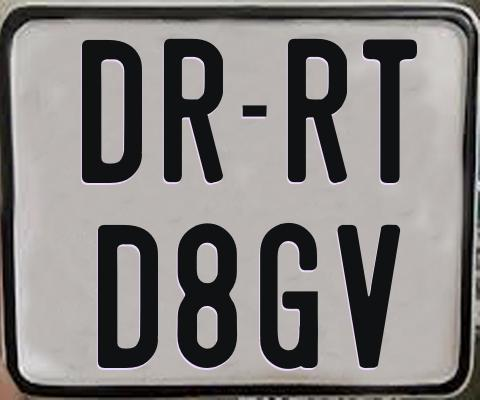8: (176, 223, 238, 368)
D: (97, 223, 163, 370), (82, 40, 145, 187)
G: (258, 222, 321, 372)
R: (163, 38, 225, 188), (287, 37, 350, 184)
T: (360, 36, 414, 182)
V: (337, 225, 403, 372)
